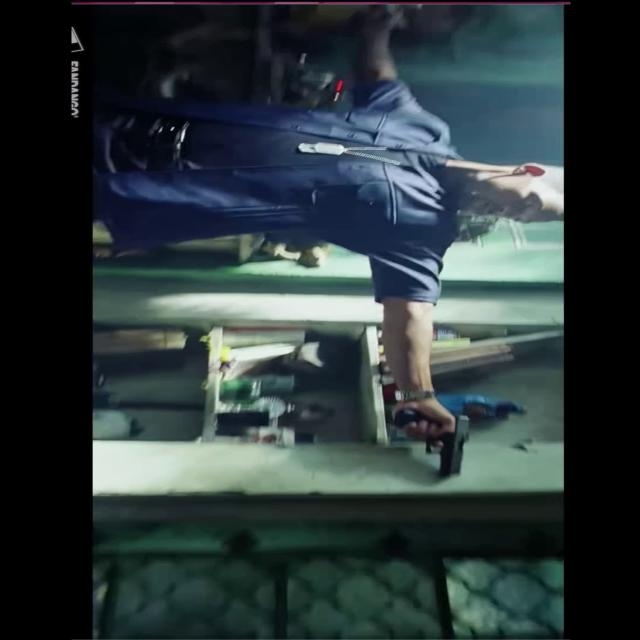weapons: (358, 396, 498, 483)
